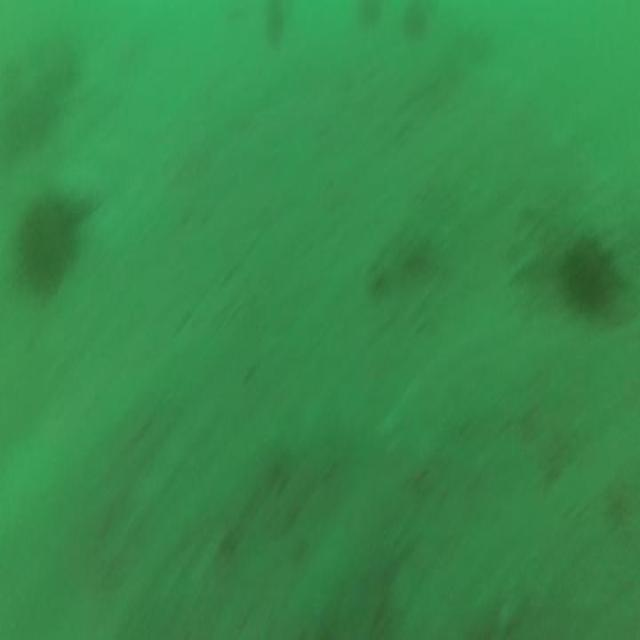echinus: (20, 186, 74, 302), (563, 224, 622, 320)
